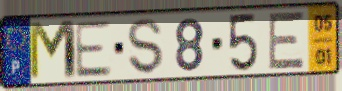5: (227, 11, 260, 73)
8: (174, 16, 207, 74)
E: (73, 18, 114, 80), (267, 10, 307, 72)
M: (26, 18, 80, 84)
S: (126, 17, 165, 77)
